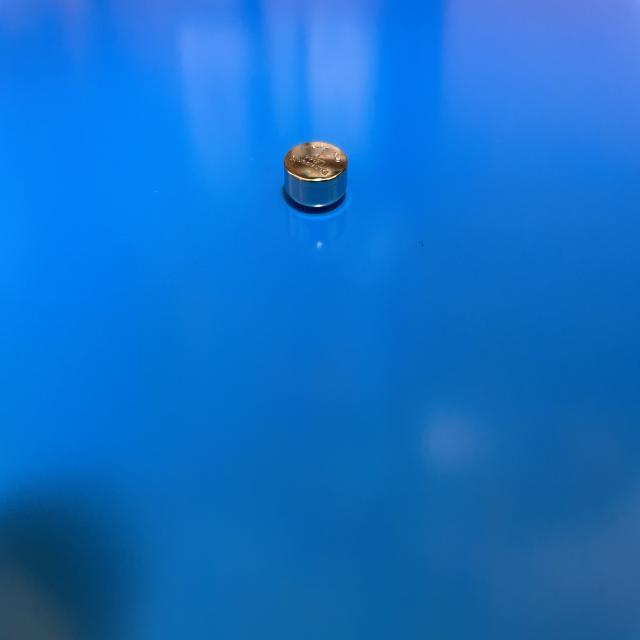COIN: (282, 142, 348, 208)
